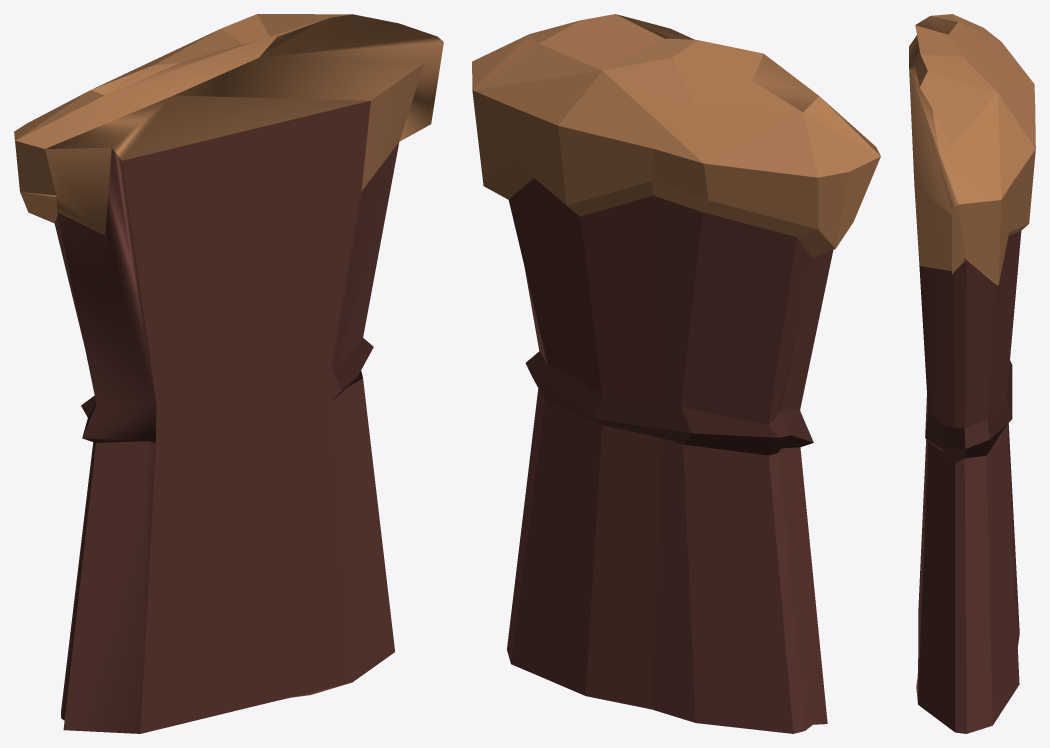
The model's file is icon_flax.fbx.
3 renders of one model, left to right at view 1: azimuth 30°, elevation 25°; view 2: azimuth 150°, elevation 25°; view 3: azimuth 270°, elevation 25°, orthographic. The views are drawn at different scales.
Parts seen in each view (by area): view 1: icon_flax; view 2: icon_flax; view 3: icon_flax.
Part boxes in pixels (x1,y1,x2,y2): icon_flax: (14, 14, 443, 733); icon_flax: (472, 14, 880, 733); icon_flax: (909, 14, 1035, 733).
Bounding box in the file's own units: 29.03 × 43.42 × 8.2.
